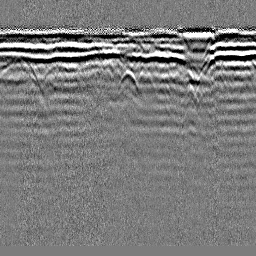cavity: (117, 67, 139, 91)
